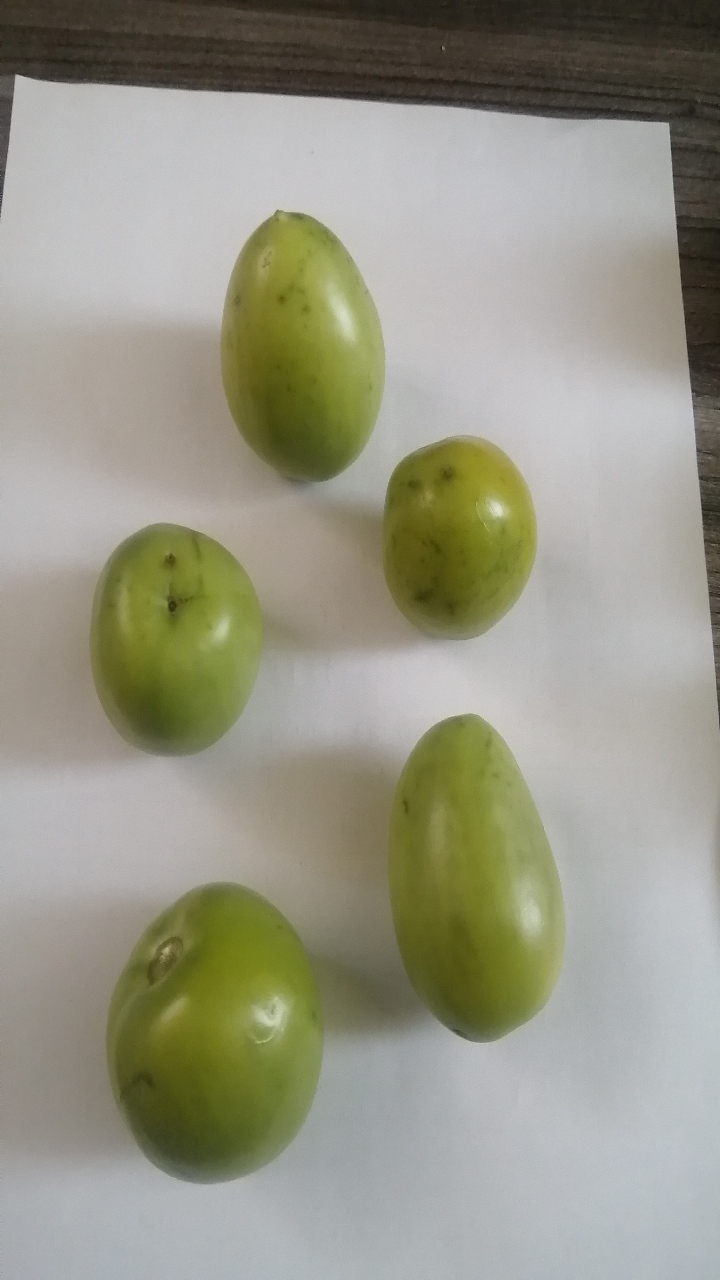tomateVerde: (86, 860, 364, 1192), (371, 697, 595, 1089), (175, 160, 400, 488), (84, 505, 269, 771), (371, 417, 552, 660)
